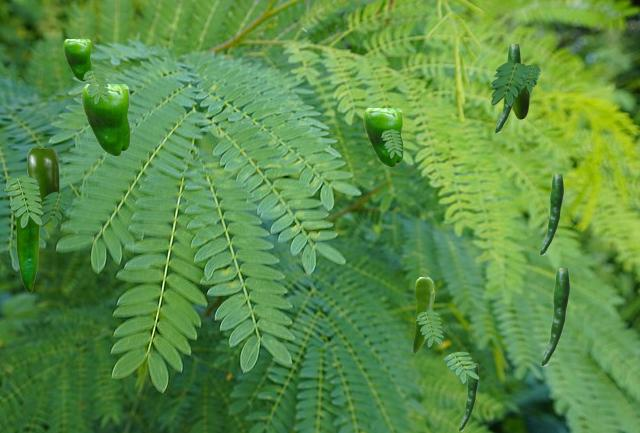green_chili: (81, 84, 129, 155), (540, 268, 568, 365), (15, 190, 39, 291), (363, 108, 402, 166), (494, 44, 519, 132), (539, 174, 562, 254), (27, 148, 58, 200), (413, 277, 433, 352), (458, 363, 477, 430), (63, 39, 90, 80), (512, 64, 528, 118)
